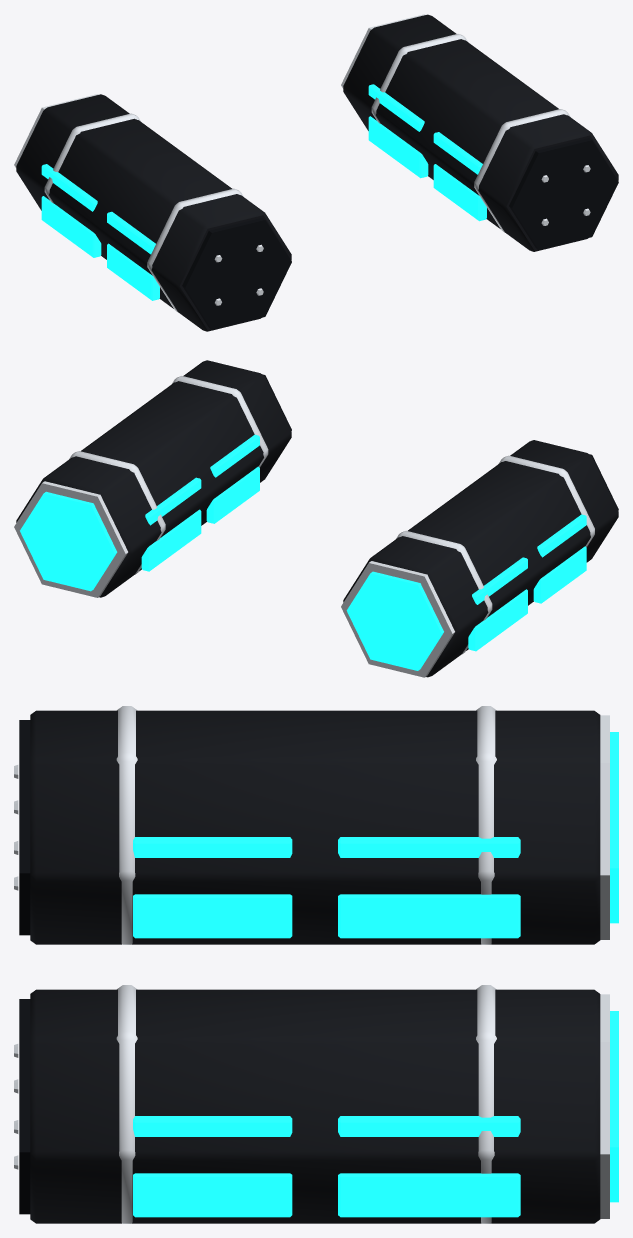
The model's file is deck_pods_long.glb.
The picture shows the model from 3 angles, top to bottom: view 1: azimuth 30°, elevation 25°; view 2: azimuth 150°, elevation 25°; view 3: azimuth 270°, elevation 25°; orthographic projection. The views are drawn at different scales.
Visible parts, largest first — view 1: deck_pods_long_POD1, deck_pods_long_POD0; view 2: deck_pods_long_POD0, deck_pods_long_POD1; view 3: deck_pods_long_POD0, deck_pods_long_POD1.
Part boxes in pixels (x1,y1,x2,y2): deck_pods_long_POD1: (341,14,618,251); deck_pods_long_POD0: (14,94,291,331); deck_pods_long_POD0: (341,440,618,677); deck_pods_long_POD1: (14,360,291,597); deck_pods_long_POD0: (14,706,618,944); deck_pods_long_POD1: (14,985,618,1223).
Size of the model in its own units: 1.5 by 0.3539 by 1.01.
